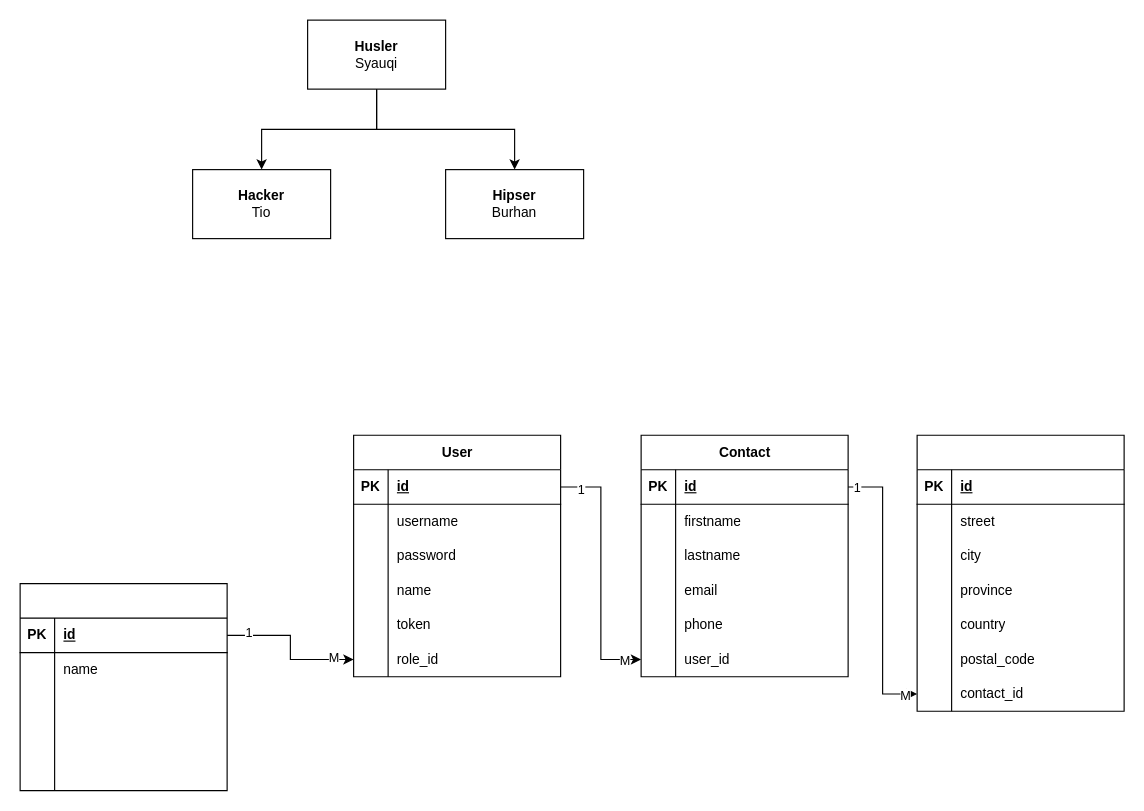
Image size: 1144x811. Some labels were removed from this diagram. The box of each missing label's shape, as (x1, y1, x2, y2) in pixels:
Address: (916, 434, 1124, 711)
Role: (19, 582, 227, 791)
